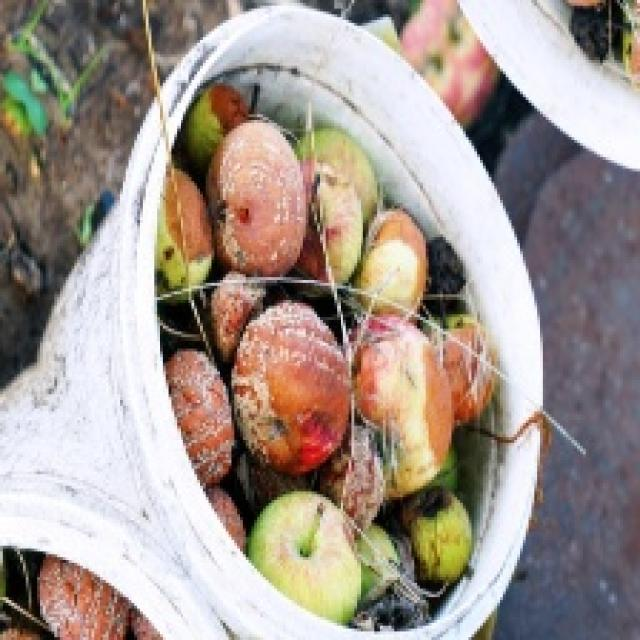rotten_apple: (242, 307, 351, 465), (354, 317, 452, 485), (223, 122, 303, 271), (166, 352, 234, 473), (162, 172, 211, 290)
